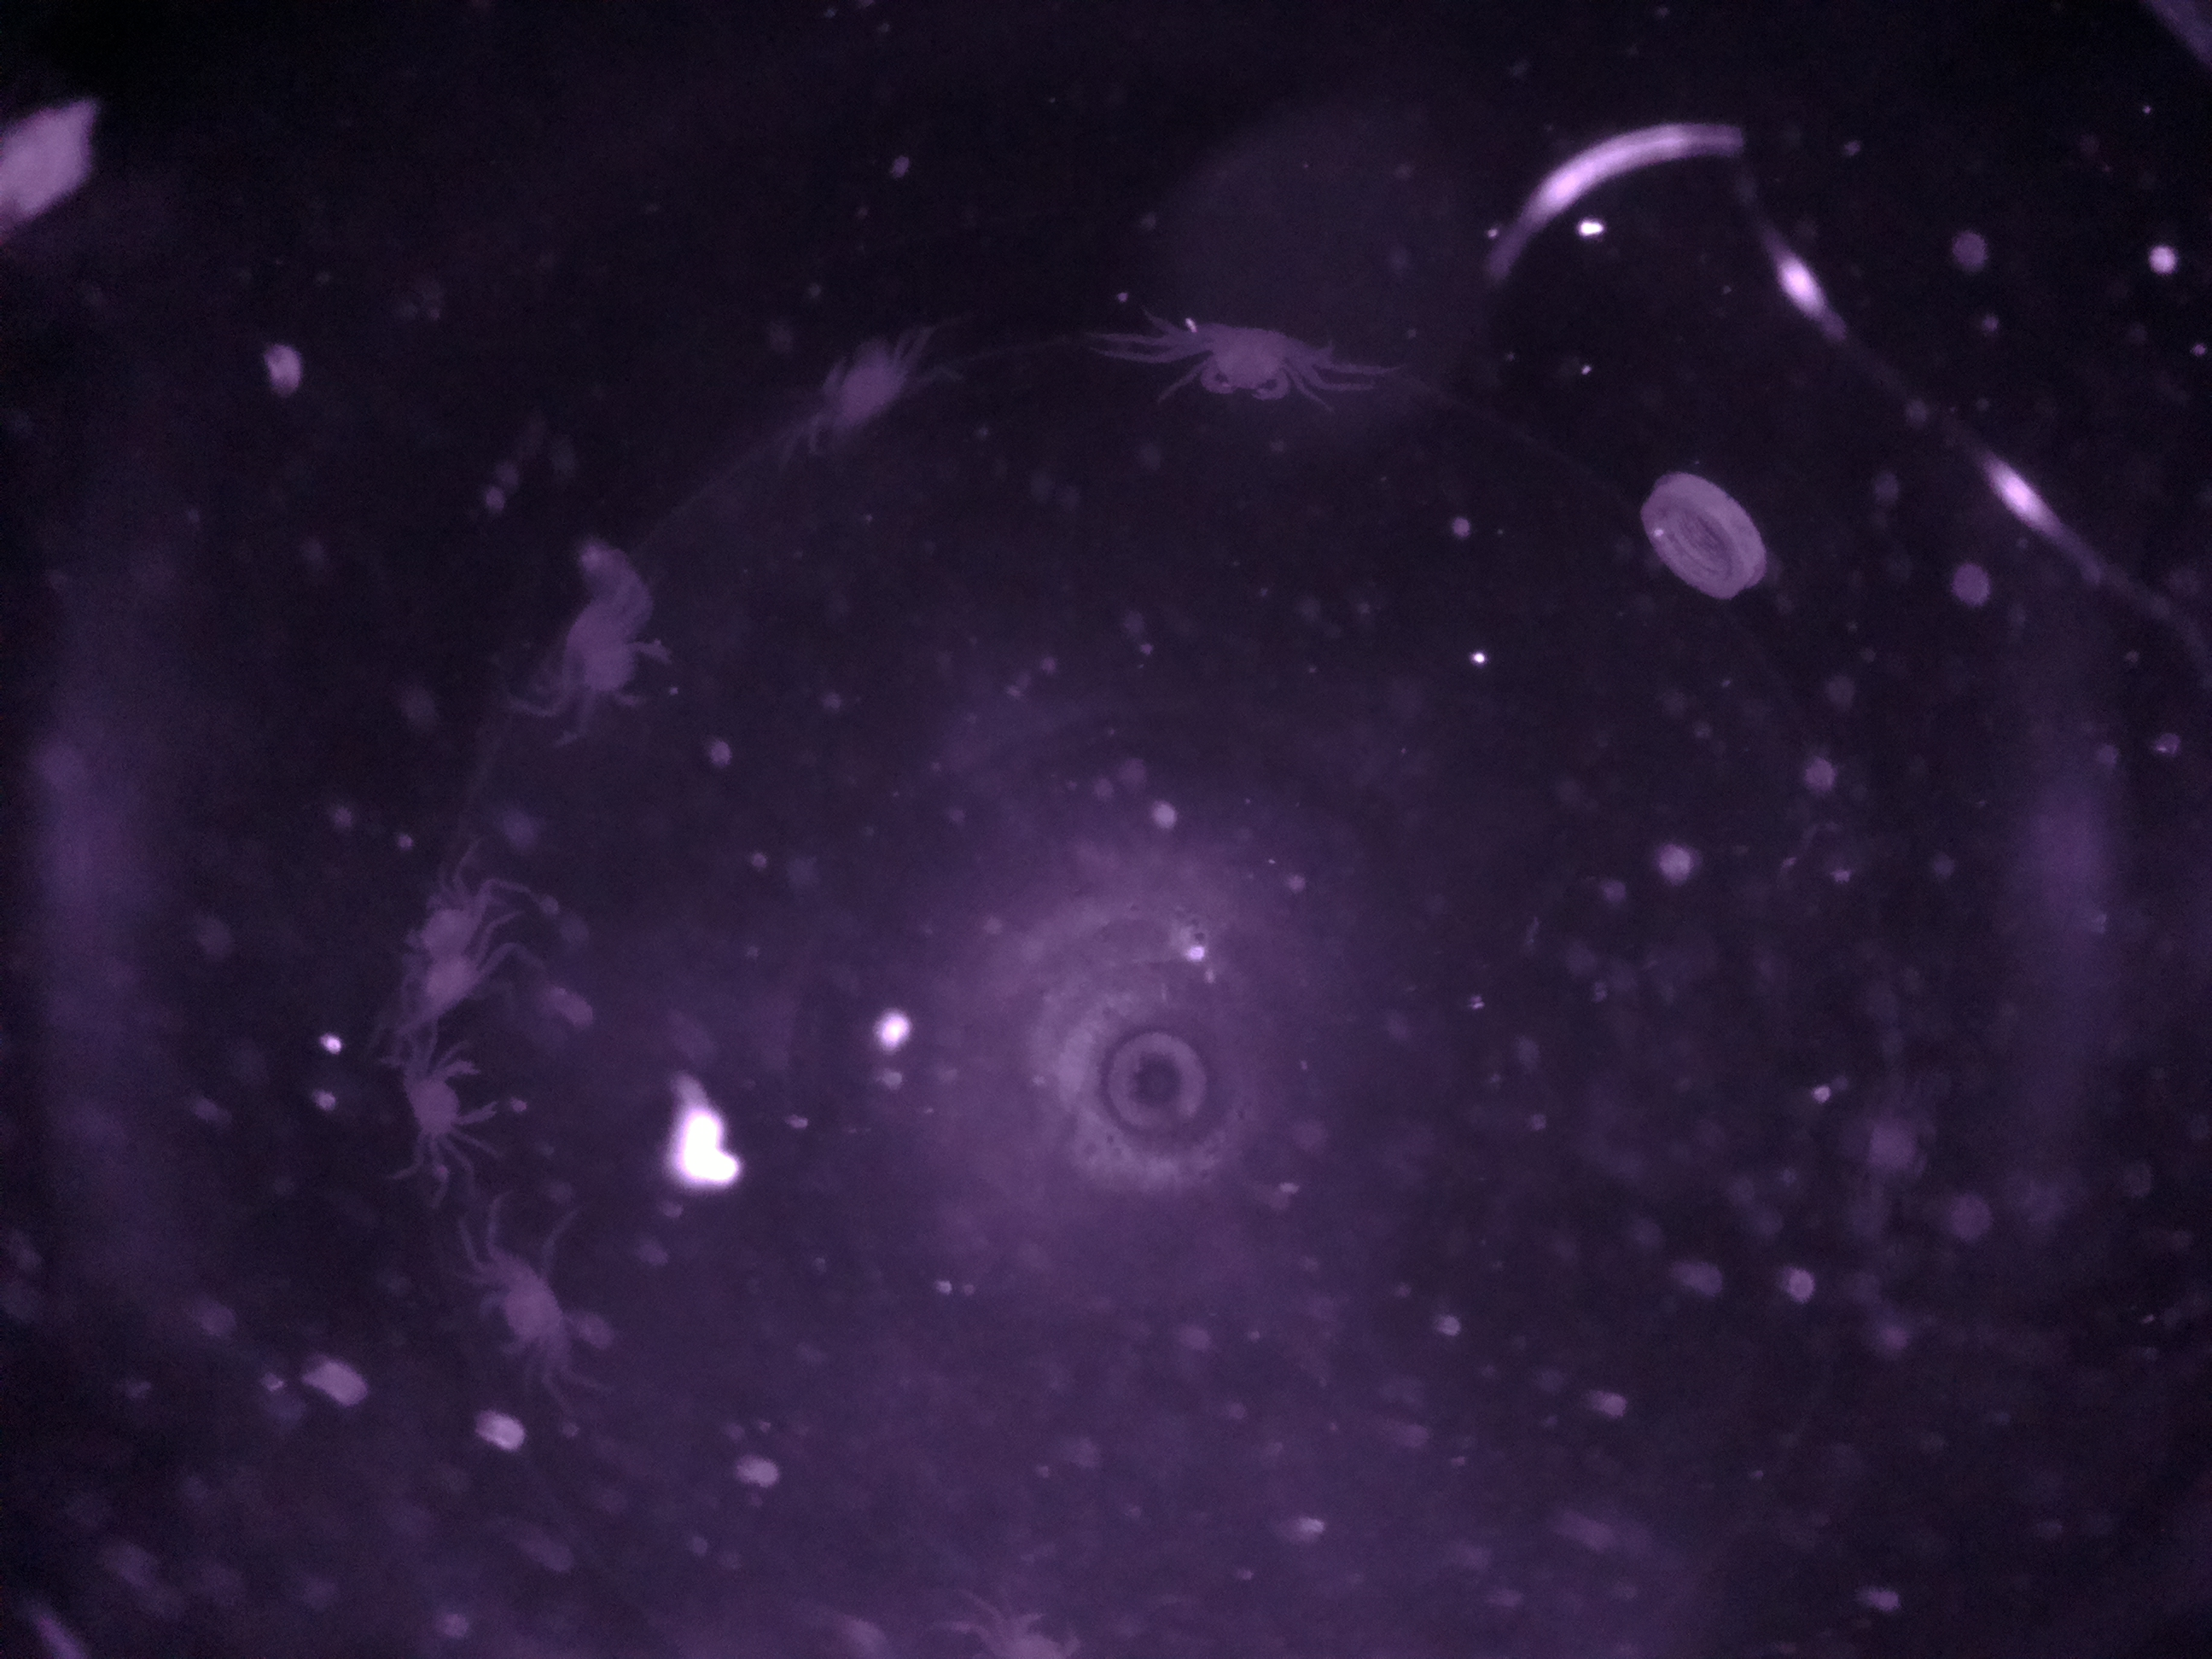Crab: (387, 1030, 528, 1159), (458, 1244, 592, 1370), (1174, 296, 1313, 415)
